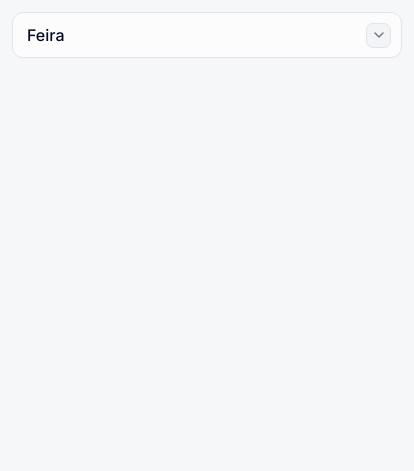
it: shared searchable select › filters accents, selects with the keyboard and preserves the form value
The image size is (414, 471).
Press Enter in the dropdown, box [12,12,402,58]
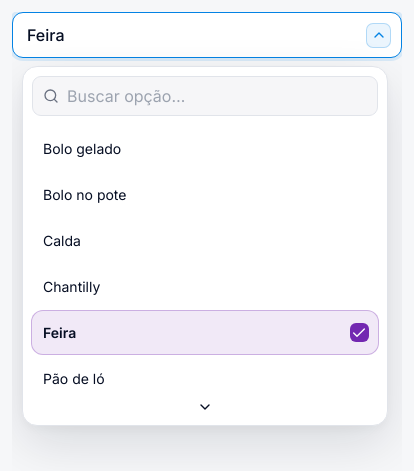
In the field labelled "Buscar opção": (217, 96) [67,77,367,115], type "pao"
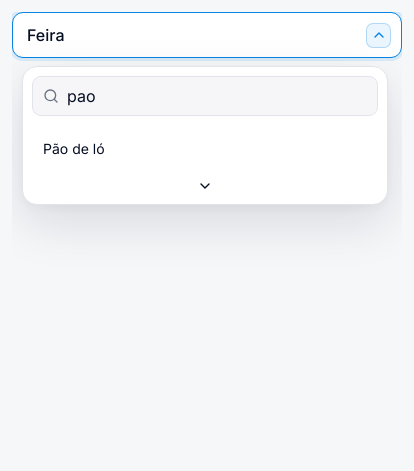
Now the number of options is 1, box [43,140,105,156]
Press ArrowDown in the field named "Buscar opção", box [67,77,367,115]
Press Enter in the option "Pão de ló", box [31,126,379,171]
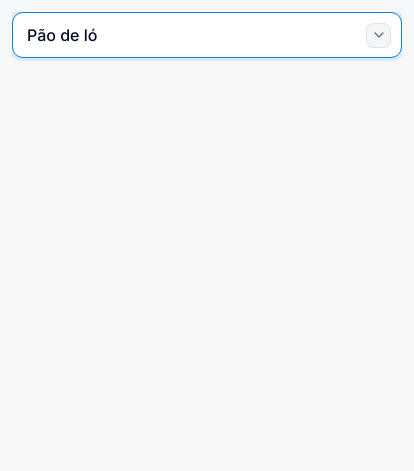
Now the dropdown reads "Pão de ló"
Now the text "Pão de ló" is shown, box [27,23,98,47]
Press Enter in the dropdown, box [12,12,402,58]
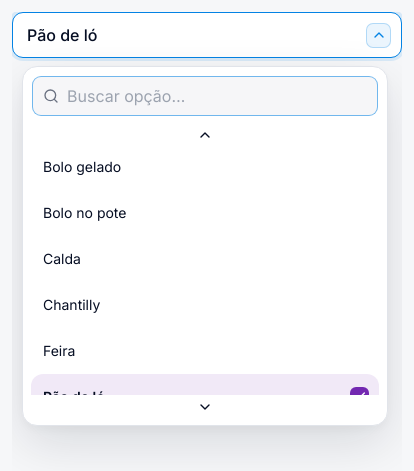
Now the field labelled "Buscar opção" is empty, box [67,77,367,115]
